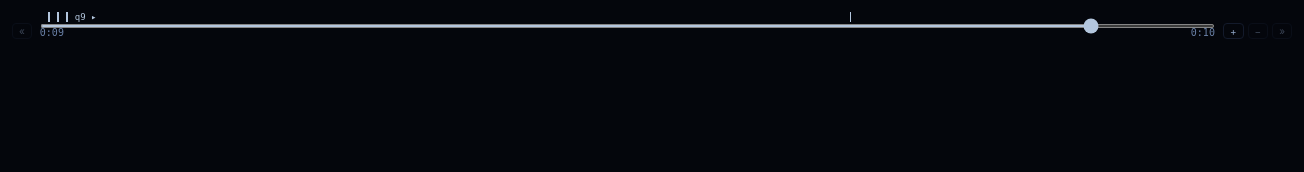
it: TideDock — zoom-out and window-shift affordances (ruling 10) › zooming all the way back out returns to the exact full-range window
Click the button named "Zoom in": (1233, 31) [1223,23,1244,39]
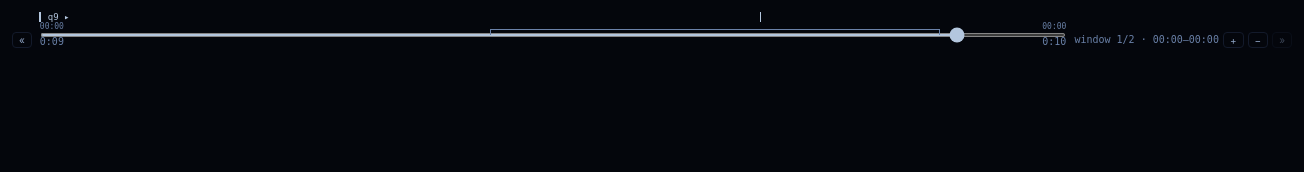
Click the button named "Zoom out": (1258, 40) [1248,32,1268,48]
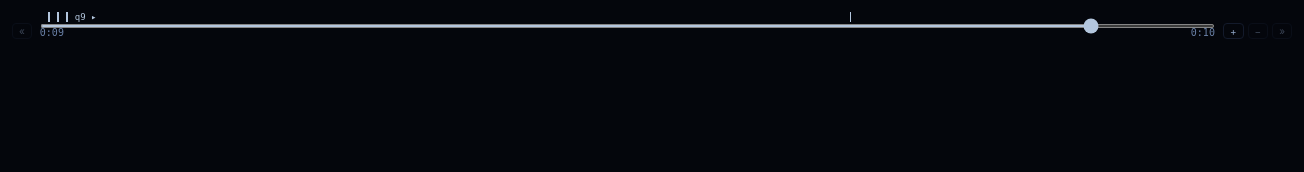
Expected: the button named "Zoom out" is disabled, [1248,23,1268,39]
